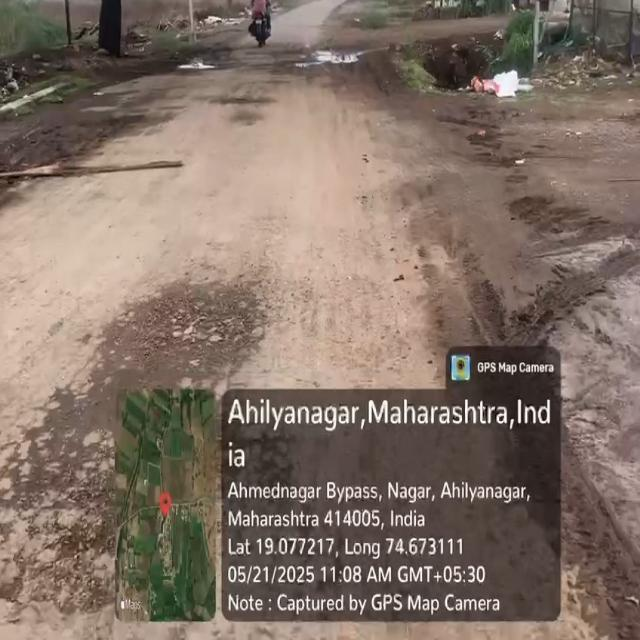cracks: (99, 273, 306, 382), (15, 409, 105, 616)
pothole: (302, 36, 353, 84), (176, 48, 217, 82)
